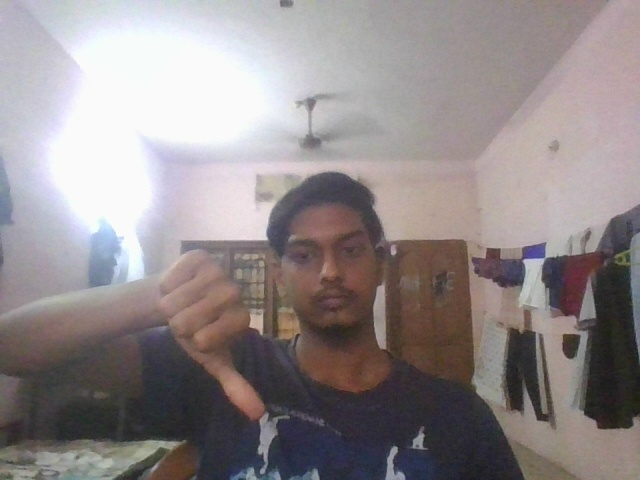thumbsdown: (155, 245, 269, 427)
